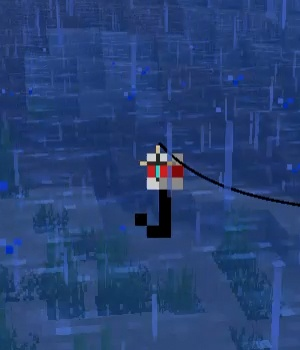up: (136, 144, 182, 243)
